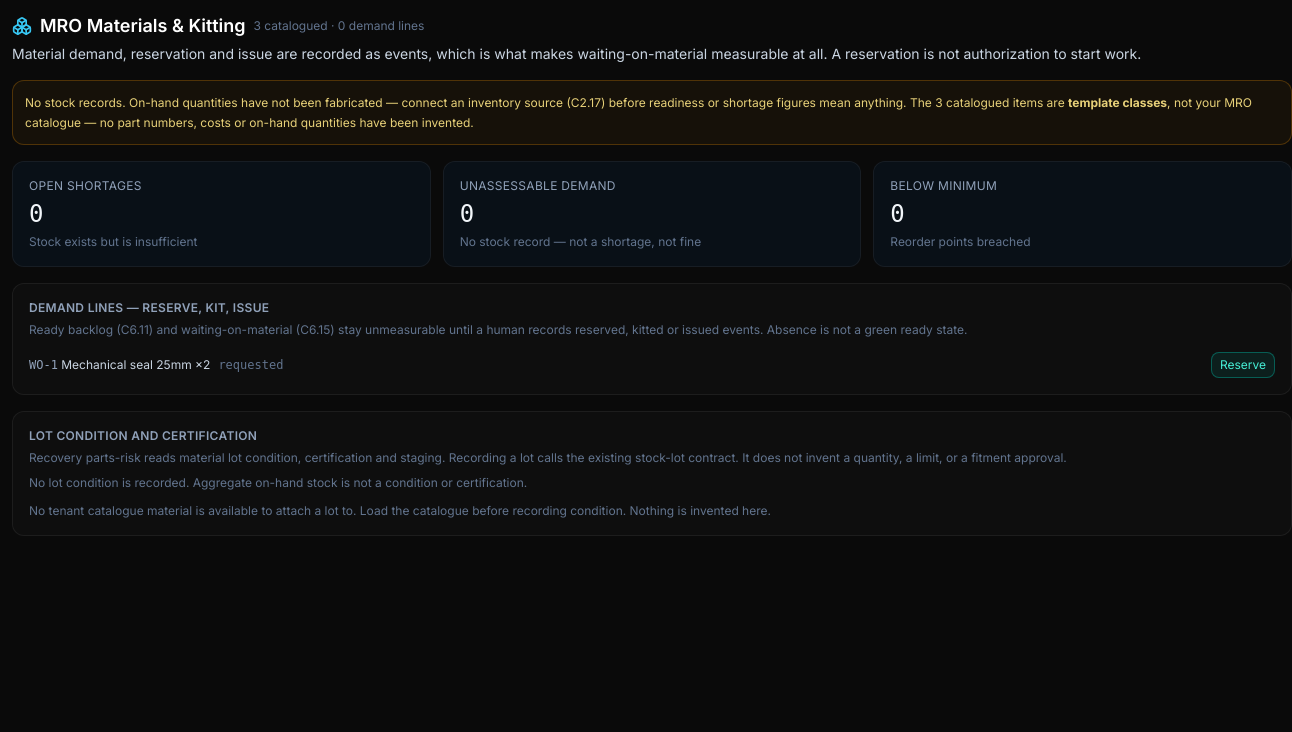
Test: MaterialsReadiness kitting path › reserves through reserve_wo_materials and keeps no-stock honest
The width and height of the screenshot is (1292, 732).
Click the button "Reserve".
click(1243, 364)  # box [1211, 352, 1275, 378]
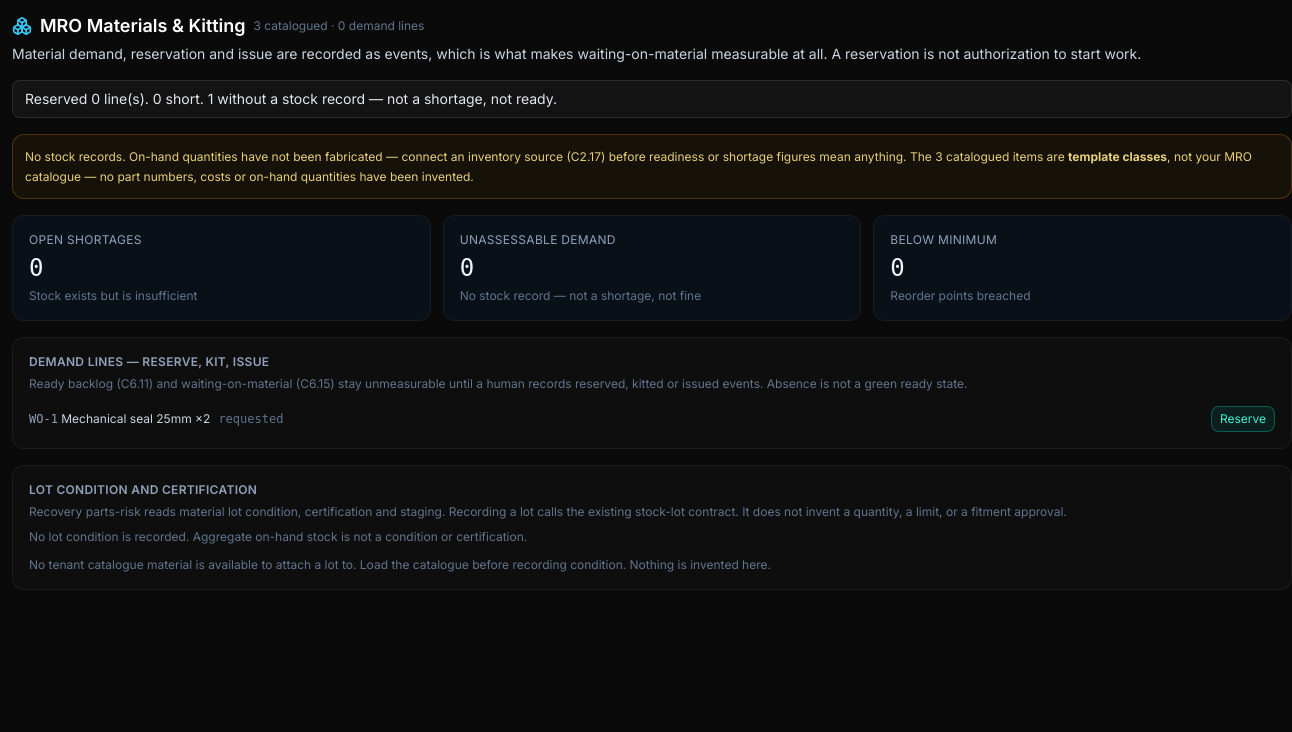
Result: the text "without a stock record — not a shortage, not ready" is shown at [25, 90, 557, 107]
